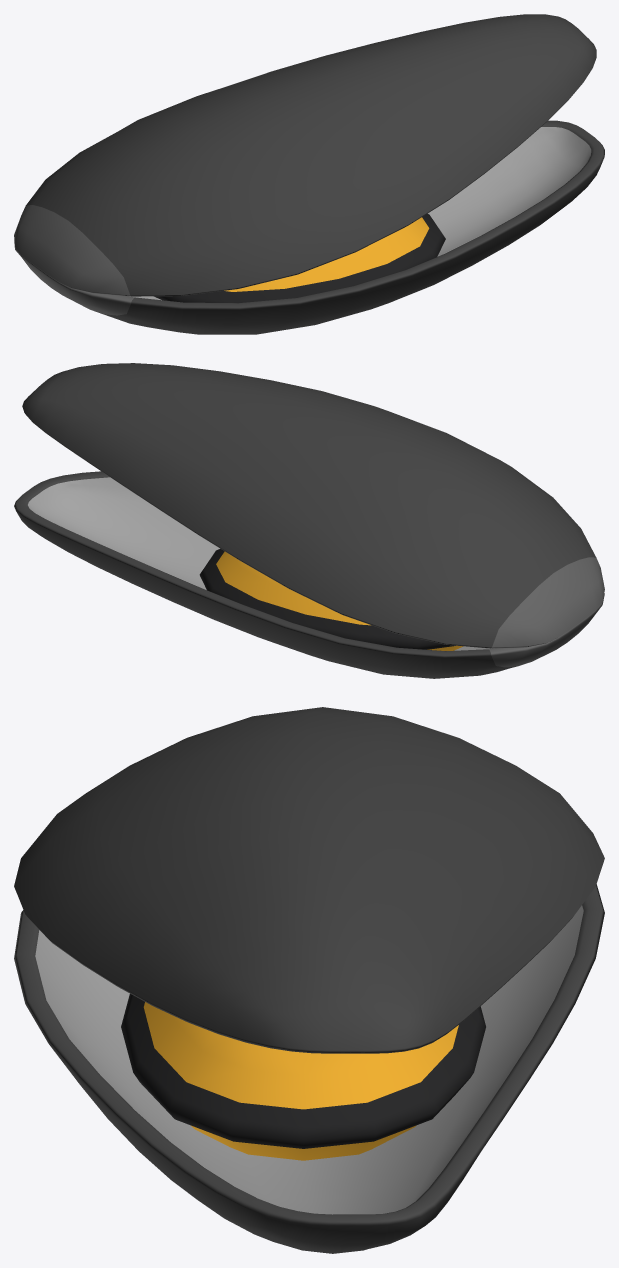
The model's file is Mussel_Open_1.fbx.
3 renders of one model, top to bottom at view 1: azimuth 30°, elevation 25°; view 2: azimuth 150°, elevation 25°; view 3: azimuth 270°, elevation 25°, orthographic. The views are drawn at different scales.
Visible parts, largest first — view 1: Mussel_Open_1; view 2: Mussel_Open_1; view 3: Mussel_Open_1.
Boxes of the visible parts, x1,y1,x2,y2 form: Mussel_Open_1: (14, 14, 604, 334); Mussel_Open_1: (14, 363, 604, 678); Mussel_Open_1: (14, 707, 604, 1253).
Bounding box in the file's own units: 8.64 × 3.44 × 4.88.
